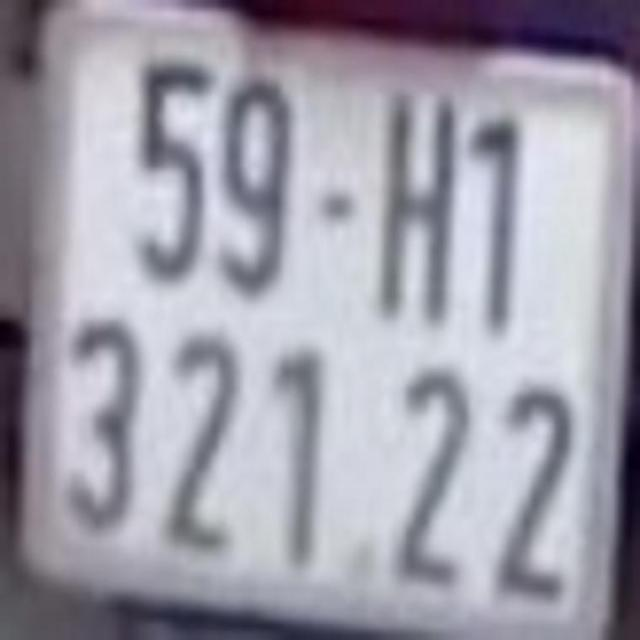1: (465, 96, 530, 329), (266, 340, 333, 566)
2: (164, 321, 238, 546), (502, 373, 573, 604), (398, 361, 468, 586)
3: (61, 308, 139, 527)
5: (138, 55, 210, 282)
9: (218, 58, 292, 295)
H: (379, 80, 457, 327)
